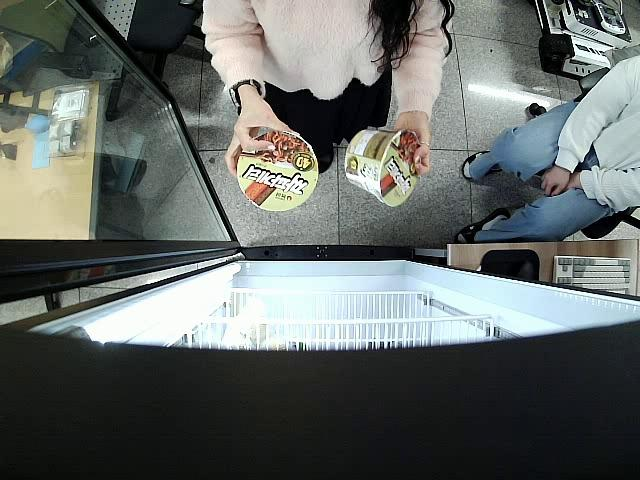00_hand: (223, 90, 295, 178), (390, 114, 433, 178)
03_chapagetti_L: (236, 131, 319, 212), (341, 129, 419, 209)
